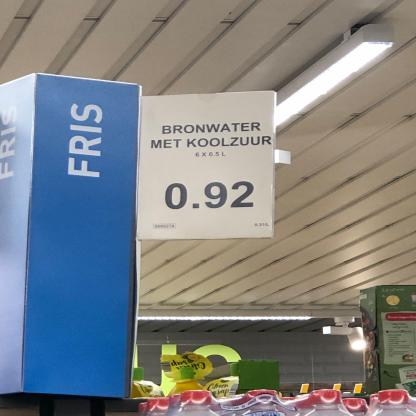prtg: (134, 92, 276, 242)
